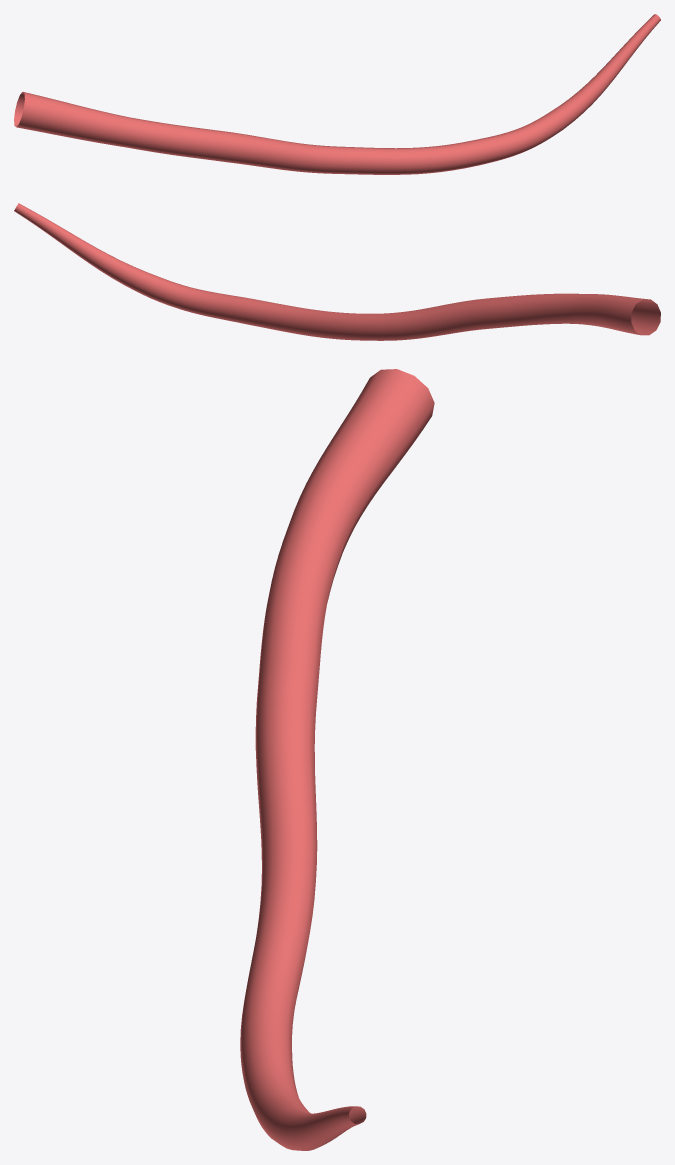
File: Deltoid_branch_of_thoraco-acromial_artery.l_BezierCurve.146.glb
3 renders of one model, top to bottom at view 1: azimuth 30°, elevation 25°; view 2: azimuth 150°, elevation 25°; view 3: azimuth 270°, elevation 25°, orthographic. The views are drawn at different scales.
Parts seen in each view (by area): view 1: Deltoid_branch_of_thoraco-acromial_artery.l_BezierCurve.146; view 2: Deltoid_branch_of_thoraco-acromial_artery.l_BezierCurve.146; view 3: Deltoid_branch_of_thoraco-acromial_artery.l_BezierCurve.146.
Boxes of the visible parts, bbox=[...] form: Deltoid_branch_of_thoraco-acromial_artery.l_BezierCurve.146: bbox=[14, 14, 660, 174]; Deltoid_branch_of_thoraco-acromial_artery.l_BezierCurve.146: bbox=[14, 203, 660, 340]; Deltoid_branch_of_thoraco-acromial_artery.l_BezierCurve.146: bbox=[240, 369, 434, 1150].
Size of the model in its own units: 0.0483 by 0.0109 by 0.00638.
